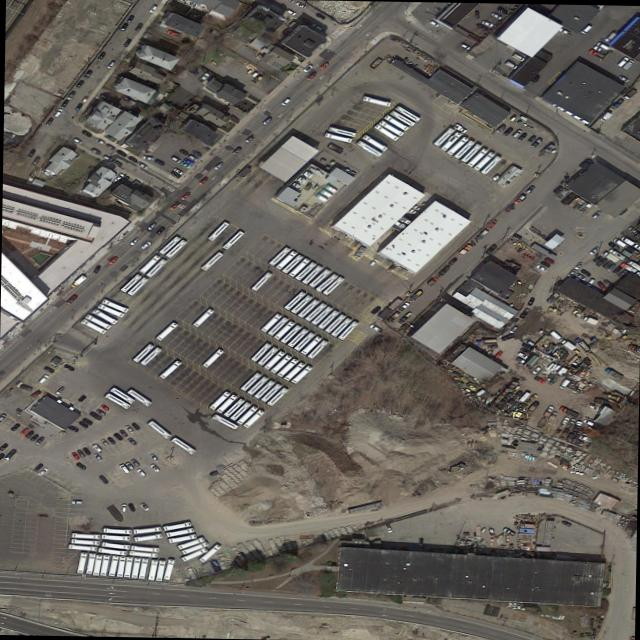large-vehicle: (250, 271, 275, 292), (109, 386, 136, 405), (296, 299, 321, 319), (197, 543, 222, 563), (321, 276, 346, 296), (274, 250, 299, 270), (293, 261, 318, 281), (307, 268, 332, 288), (127, 388, 153, 407), (171, 436, 197, 455), (210, 413, 239, 430), (104, 392, 131, 410), (356, 139, 383, 157), (362, 134, 389, 152), (276, 357, 299, 378), (301, 264, 324, 285), (266, 386, 290, 406), (269, 354, 293, 374), (323, 313, 347, 333), (259, 313, 283, 333), (283, 291, 307, 311), (208, 390, 232, 410), (221, 230, 245, 250), (200, 251, 224, 271), (91, 308, 119, 325), (314, 273, 339, 292), (390, 109, 416, 127), (395, 105, 421, 123), (100, 298, 129, 314), (253, 379, 276, 399), (259, 382, 282, 402), (242, 409, 265, 429), (446, 136, 469, 156), (460, 143, 483, 163), (480, 155, 503, 175), (304, 302, 327, 322), (317, 309, 340, 329), (337, 320, 360, 340), (267, 316, 290, 336), (273, 320, 296, 340), (279, 324, 302, 344), (287, 328, 310, 348), (299, 335, 322, 355), (306, 339, 329, 359), (290, 294, 313, 314), (215, 393, 238, 413), (139, 346, 162, 366), (145, 258, 168, 278), (120, 273, 143, 293), (192, 308, 215, 328), (440, 131, 463, 151), (268, 246, 291, 266), (281, 254, 304, 274), (207, 221, 230, 241), (85, 313, 112, 330), (80, 318, 107, 335), (378, 120, 405, 137), (239, 372, 263, 391), (452, 140, 476, 159), (282, 362, 306, 381), (148, 420, 172, 439), (158, 360, 182, 379), (164, 239, 188, 258), (131, 343, 155, 362), (287, 258, 311, 277), (384, 114, 409, 132), (97, 303, 125, 319), (236, 405, 258, 425), (263, 350, 285, 370), (331, 317, 353, 337), (257, 346, 279, 366), (139, 254, 161, 274), (202, 348, 224, 368), (290, 365, 313, 384), (246, 376, 269, 395), (229, 402, 252, 421), (310, 306, 333, 325), (293, 332, 316, 351), (126, 277, 149, 296), (158, 236, 181, 255), (155, 322, 178, 341), (433, 128, 456, 147), (180, 547, 209, 562), (374, 124, 399, 141), (181, 540, 209, 555), (467, 148, 489, 167), (474, 152, 496, 171), (250, 343, 272, 362), (223, 398, 245, 417), (177, 536, 206, 550), (328, 125, 356, 138), (363, 96, 392, 108), (165, 527, 195, 538), (324, 132, 352, 143), (162, 521, 192, 531), (573, 337, 591, 353), (137, 557, 150, 579), (107, 555, 120, 577), (67, 543, 98, 552), (75, 552, 88, 573), (133, 533, 163, 542), (101, 541, 131, 550), (147, 559, 159, 581), (91, 554, 103, 576), (168, 534, 197, 543), (131, 544, 160, 553), (85, 552, 96, 575), (163, 559, 175, 580), (130, 557, 142, 578), (603, 368, 624, 380), (132, 526, 162, 534), (97, 547, 127, 555), (71, 532, 100, 540), (101, 533, 130, 541), (129, 550, 158, 558), (123, 556, 134, 577), (116, 556, 127, 577), (100, 555, 111, 576), (103, 527, 132, 534), (71, 538, 100, 545), (156, 560, 165, 581)
small-vehicle: (69, 273, 88, 289), (558, 405, 581, 418), (588, 48, 607, 61), (601, 250, 620, 263), (607, 248, 626, 261), (619, 261, 638, 274), (559, 338, 577, 351), (63, 293, 80, 306), (437, 264, 452, 277), (548, 330, 564, 342), (621, 88, 637, 100), (512, 193, 528, 205), (398, 311, 414, 323), (409, 289, 425, 301), (579, 23, 594, 35), (475, 228, 490, 240), (483, 243, 498, 255), (458, 243, 473, 255), (3, 448, 18, 460), (582, 315, 599, 325), (542, 405, 555, 418), (616, 56, 630, 68), (557, 378, 571, 390), (613, 237, 628, 248), (598, 111, 613, 122), (625, 259, 640, 270), (88, 410, 103, 421), (529, 137, 544, 148), (425, 276, 440, 287), (572, 420, 584, 433), (604, 31, 618, 42), (579, 158, 593, 169), (36, 373, 50, 384), (504, 59, 518, 70), (397, 301, 411, 312), (196, 72, 210, 83), (166, 28, 181, 38), (620, 236, 635, 246), (593, 44, 608, 54), (511, 52, 526, 62), (369, 323, 384, 333), (476, 338, 497, 345), (622, 59, 635, 70), (485, 219, 498, 230), (612, 97, 625, 108), (518, 307, 531, 318), (260, 115, 273, 126), (212, 160, 225, 171), (168, 200, 182, 210), (145, 221, 159, 231), (139, 240, 153, 250), (587, 246, 601, 256), (596, 41, 610, 51), (502, 527, 516, 537), (494, 123, 508, 133), (243, 134, 257, 144), (480, 19, 495, 28), (147, 3, 159, 14), (53, 107, 65, 118), (529, 73, 541, 84), (119, 464, 131, 475), (149, 463, 161, 474), (179, 191, 192, 201), (155, 225, 168, 235), (107, 255, 120, 265), (524, 184, 537, 194), (530, 365, 543, 375), (602, 259, 615, 269), (615, 207, 628, 217), (596, 257, 609, 267), (9, 422, 22, 432), (18, 426, 31, 436), (516, 132, 529, 142), (305, 71, 318, 81), (302, 63, 315, 73), (197, 175, 210, 185), (578, 435, 594, 443), (582, 418, 596, 427), (558, 27, 572, 36), (515, 350, 529, 359), (20, 383, 34, 392), (596, 280, 607, 291), (82, 69, 94, 79), (30, 156, 42, 166), (605, 262, 617, 272), (611, 265, 623, 275), (566, 268, 578, 278), (91, 443, 103, 453), (92, 452, 104, 462), (97, 474, 109, 484), (124, 461, 136, 471), (76, 393, 88, 403), (34, 436, 46, 446), (24, 429, 36, 439), (123, 424, 135, 434), (502, 126, 514, 136), (511, 128, 523, 138), (368, 257, 380, 267), (172, 166, 185, 175), (112, 173, 125, 182), (574, 272, 587, 281), (523, 338, 536, 347), (519, 346, 532, 355), (29, 389, 42, 398), (526, 134, 539, 143), (294, 0, 307, 9), (279, 97, 292, 106), (501, 333, 515, 341), (134, 22, 145, 32), (105, 60, 116, 70), (66, 90, 77, 100), (26, 148, 37, 158), (585, 277, 596, 287), (548, 411, 558, 422), (560, 416, 571, 426), (70, 451, 81, 461), (100, 438, 111, 448), (130, 421, 141, 431), (139, 502, 150, 512), (319, 61, 330, 71), (232, 145, 243, 155), (153, 158, 165, 167), (183, 158, 195, 167), (129, 237, 141, 246), (535, 264, 547, 273), (370, 305, 382, 314), (627, 226, 639, 235), (552, 185, 564, 194), (539, 259, 551, 268), (136, 468, 148, 477), (33, 462, 45, 471), (63, 363, 75, 372), (95, 408, 107, 417), (77, 420, 89, 429), (112, 432, 124, 441), (447, 256, 459, 265), (459, 42, 471, 51), (428, 19, 440, 28), (285, 7, 297, 16), (520, 342, 533, 350), (300, 17, 313, 25), (314, 12, 327, 20), (97, 51, 107, 61), (566, 418, 576, 428), (82, 446, 92, 456), (171, 155, 182, 164), (75, 79, 86, 88), (44, 117, 55, 126), (90, 147, 101, 156), (591, 210, 602, 219), (573, 261, 584, 270), (508, 325, 519, 334), (618, 74, 629, 83), (126, 437, 137, 446), (37, 467, 48, 476), (99, 403, 110, 412), (55, 386, 66, 395), (29, 432, 40, 441), (180, 161, 192, 169), (115, 149, 127, 157), (104, 143, 116, 151), (43, 365, 55, 373), (603, 279, 615, 287), (617, 269, 629, 277), (608, 242, 620, 250), (591, 255, 603, 263), (580, 268, 592, 276), (75, 462, 87, 470), (81, 417, 93, 425), (491, 12, 503, 20), (496, 7, 509, 14), (533, 376, 546, 383), (123, 38, 133, 47), (60, 99, 70, 108), (74, 102, 84, 111), (92, 264, 101, 274), (526, 296, 535, 306), (118, 429, 128, 438), (76, 449, 86, 458), (130, 458, 140, 467), (149, 453, 159, 462), (107, 436, 117, 445), (128, 502, 137, 512), (137, 161, 148, 169), (128, 155, 139, 163), (103, 154, 114, 162), (81, 129, 92, 137), (72, 136, 83, 144), (95, 137, 106, 145), (68, 425, 79, 433), (560, 520, 572, 527), (311, 23, 323, 30), (126, 14, 135, 23), (384, 524, 393, 533), (0, 443, 9, 452), (179, 148, 189, 156), (188, 154, 199, 161), (121, 22, 129, 31), (143, 155, 155, 161), (511, 401, 520, 409), (510, 317, 519, 325), (71, 499, 83, 505), (120, 504, 128, 513), (544, 257, 554, 264), (499, 396, 508, 403), (81, 96, 89, 103), (474, 10, 480, 18), (418, 538, 423, 546)
